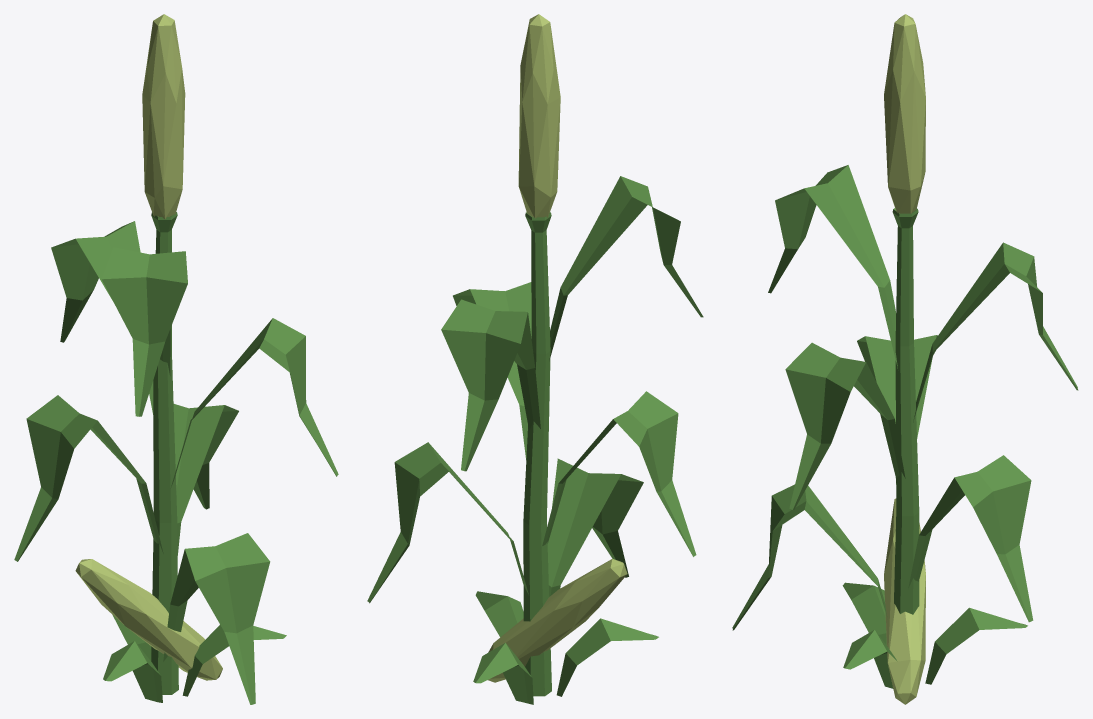
The model's file is Millet.fbx.
The picture shows the model from 3 angles, left to right: view 1: azimuth 30°, elevation 25°; view 2: azimuth 150°, elevation 25°; view 3: azimuth 270°, elevation 25°; orthographic projection.
Parts seen in each view (by area): view 1: Millet_Plant, Millet, Millet_Crop, Millet_Sprout; view 2: Millet_Plant, Millet, Millet_Sprout, Millet_Crop; view 3: Millet_Plant, Millet, Millet_Sprout, Millet_Crop.
Boxes of the visible parts, <box> form: Millet_Plant: <box>14,212,338,704</box>; Millet: <box>142,14,185,218</box>; Millet_Crop: <box>75,559,222,680</box>; Millet_Sprout: <box>103,615,286,702</box>; Millet_Plant: <box>367,176,703,696</box>; Millet: <box>518,14,560,218</box>; Millet_Sprout: <box>473,591,658,704</box>; Millet_Crop: <box>488,558,627,682</box>; Millet_Plant: <box>732,165,1078,630</box>; Millet: <box>884,14,925,213</box>; Millet_Sprout: <box>842,582,1027,688</box>; Millet_Crop: <box>884,498,925,704</box>.
Bounding box in the file's own units: 1.11 × 2.67 × 1.25.
